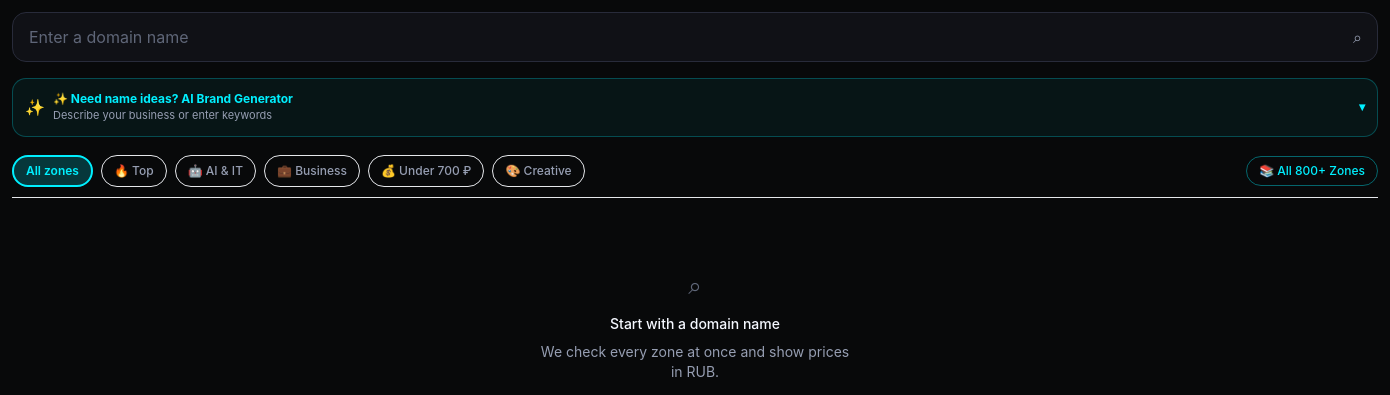
it: SearchScreen › shows the empty state when nothing matches
In the field labelled "Enter a domain name": (695, 37) 12,12 -> 1378,62, type "none"
Then press Enter
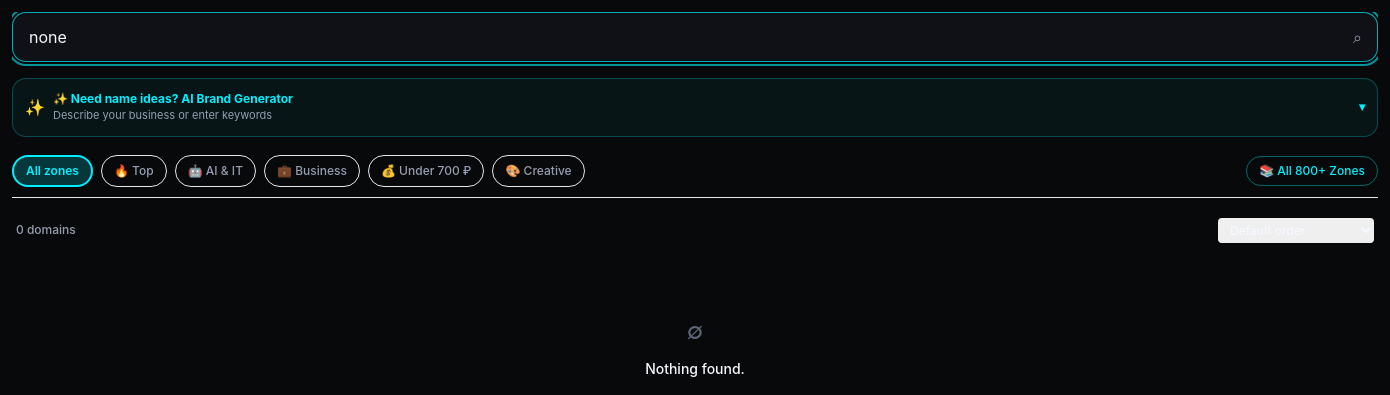
Expected: the text "Nothing found." is shown, 645,358 -> 745,378
